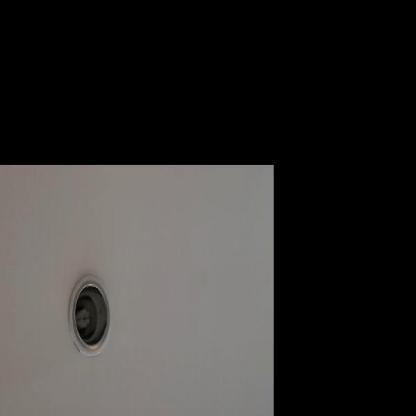light_off: (64, 261, 116, 361)
